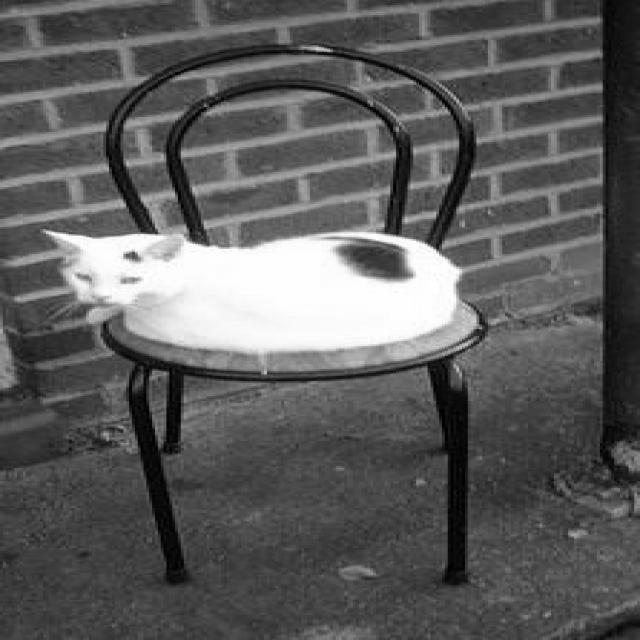chair: (99, 42, 514, 586)
